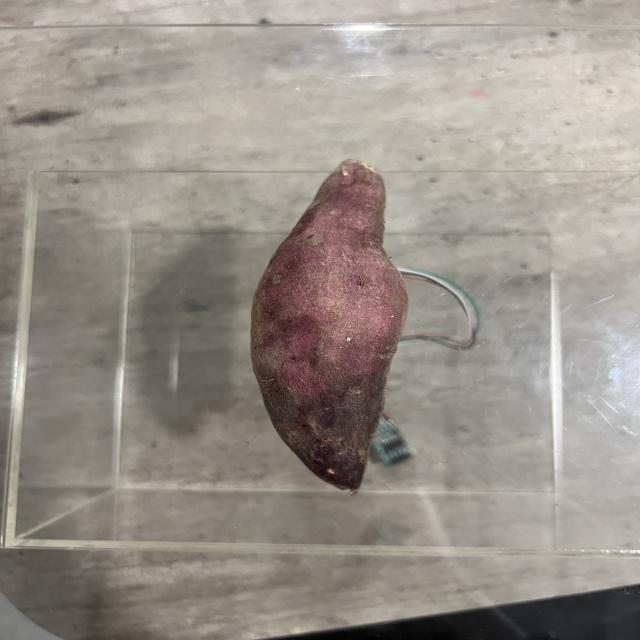sweet potato: (252, 159, 410, 496)
